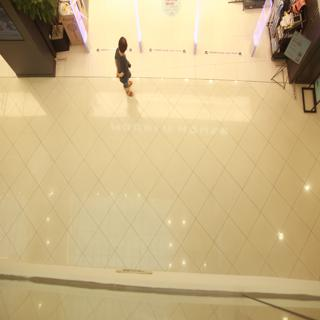person: (110, 29, 141, 100)
